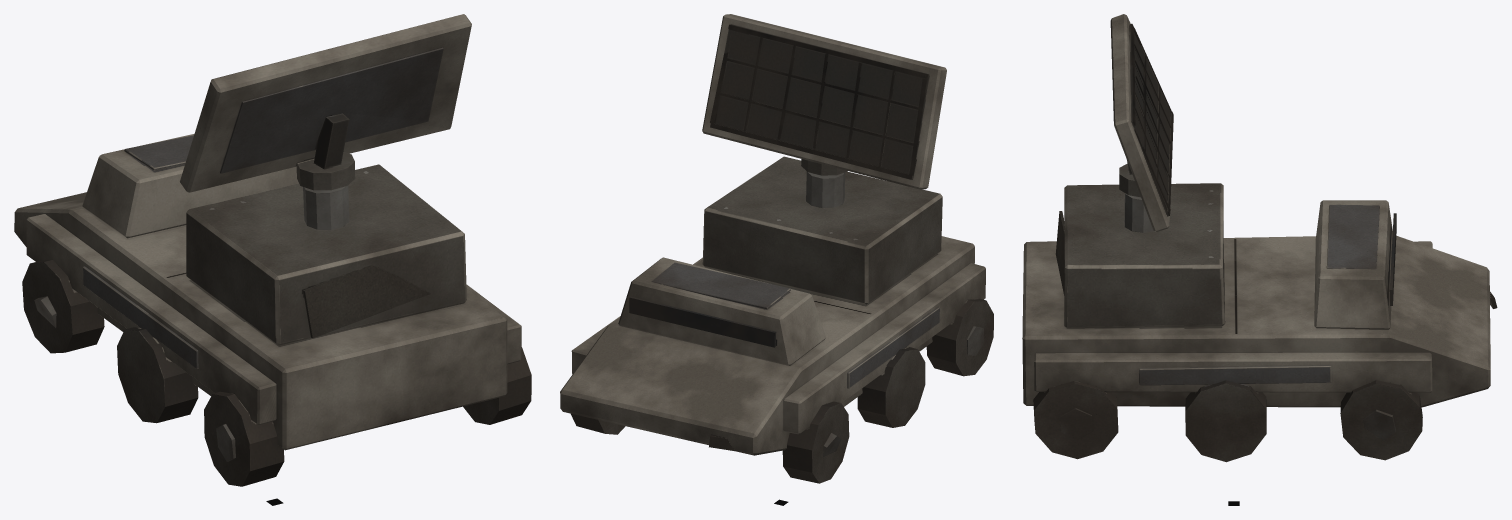
The model's file is ord_oracle_wreck.fbx.
3 views of the same model, side by side, from view 1: azimuth 30°, elevation 25°; view 2: azimuth 150°, elevation 25°; view 3: azimuth 270°, elevation 25° (orthographic). The views are drawn at different scales.
Visible parts, largest first — view 1: base_bar, dish_bar, wheelL3_bar, wheelL2_bar, wheelL1_bar, wheelR3_bar; view 2: base_bar, dish_bar, wheelL2_bar, wheelL1_bar, wheelL3_bar, wheelR1_bar; view 3: base_bar, dish_bar, wheelR2_bar, wheelR3_bar, wheelR1_bar.
Part boxes in pixels (bbox=[...]): base_bar: bbox=[14, 134, 521, 450]; dish_bar: bbox=[180, 14, 471, 192]; wheelL3_bar: bbox=[204, 391, 284, 486]; wheelL2_bar: bbox=[117, 327, 198, 423]; wheelL1_bar: bbox=[22, 259, 104, 353]; wheelR3_bar: bbox=[463, 347, 531, 424]; base_bar: bbox=[560, 156, 985, 455]; dish_bar: bbox=[702, 14, 946, 189]; wheelL2_bar: bbox=[857, 347, 925, 427]; wheelL1_bar: bbox=[782, 401, 849, 483]; wheelL3_bar: bbox=[926, 298, 993, 376]; wheelR1_bar: bbox=[571, 413, 625, 434]; base_bar: bbox=[1022, 183, 1497, 407]; dish_bar: bbox=[1110, 14, 1173, 231]; wheelR2_bar: bbox=[1185, 380, 1266, 462]; wheelR3_bar: bbox=[1033, 381, 1118, 459]; wheelR1_bar: bbox=[1340, 380, 1422, 460].
Bounding box in the file's own units: 525 × 848 × 833.
2 materials, 2 textured.
